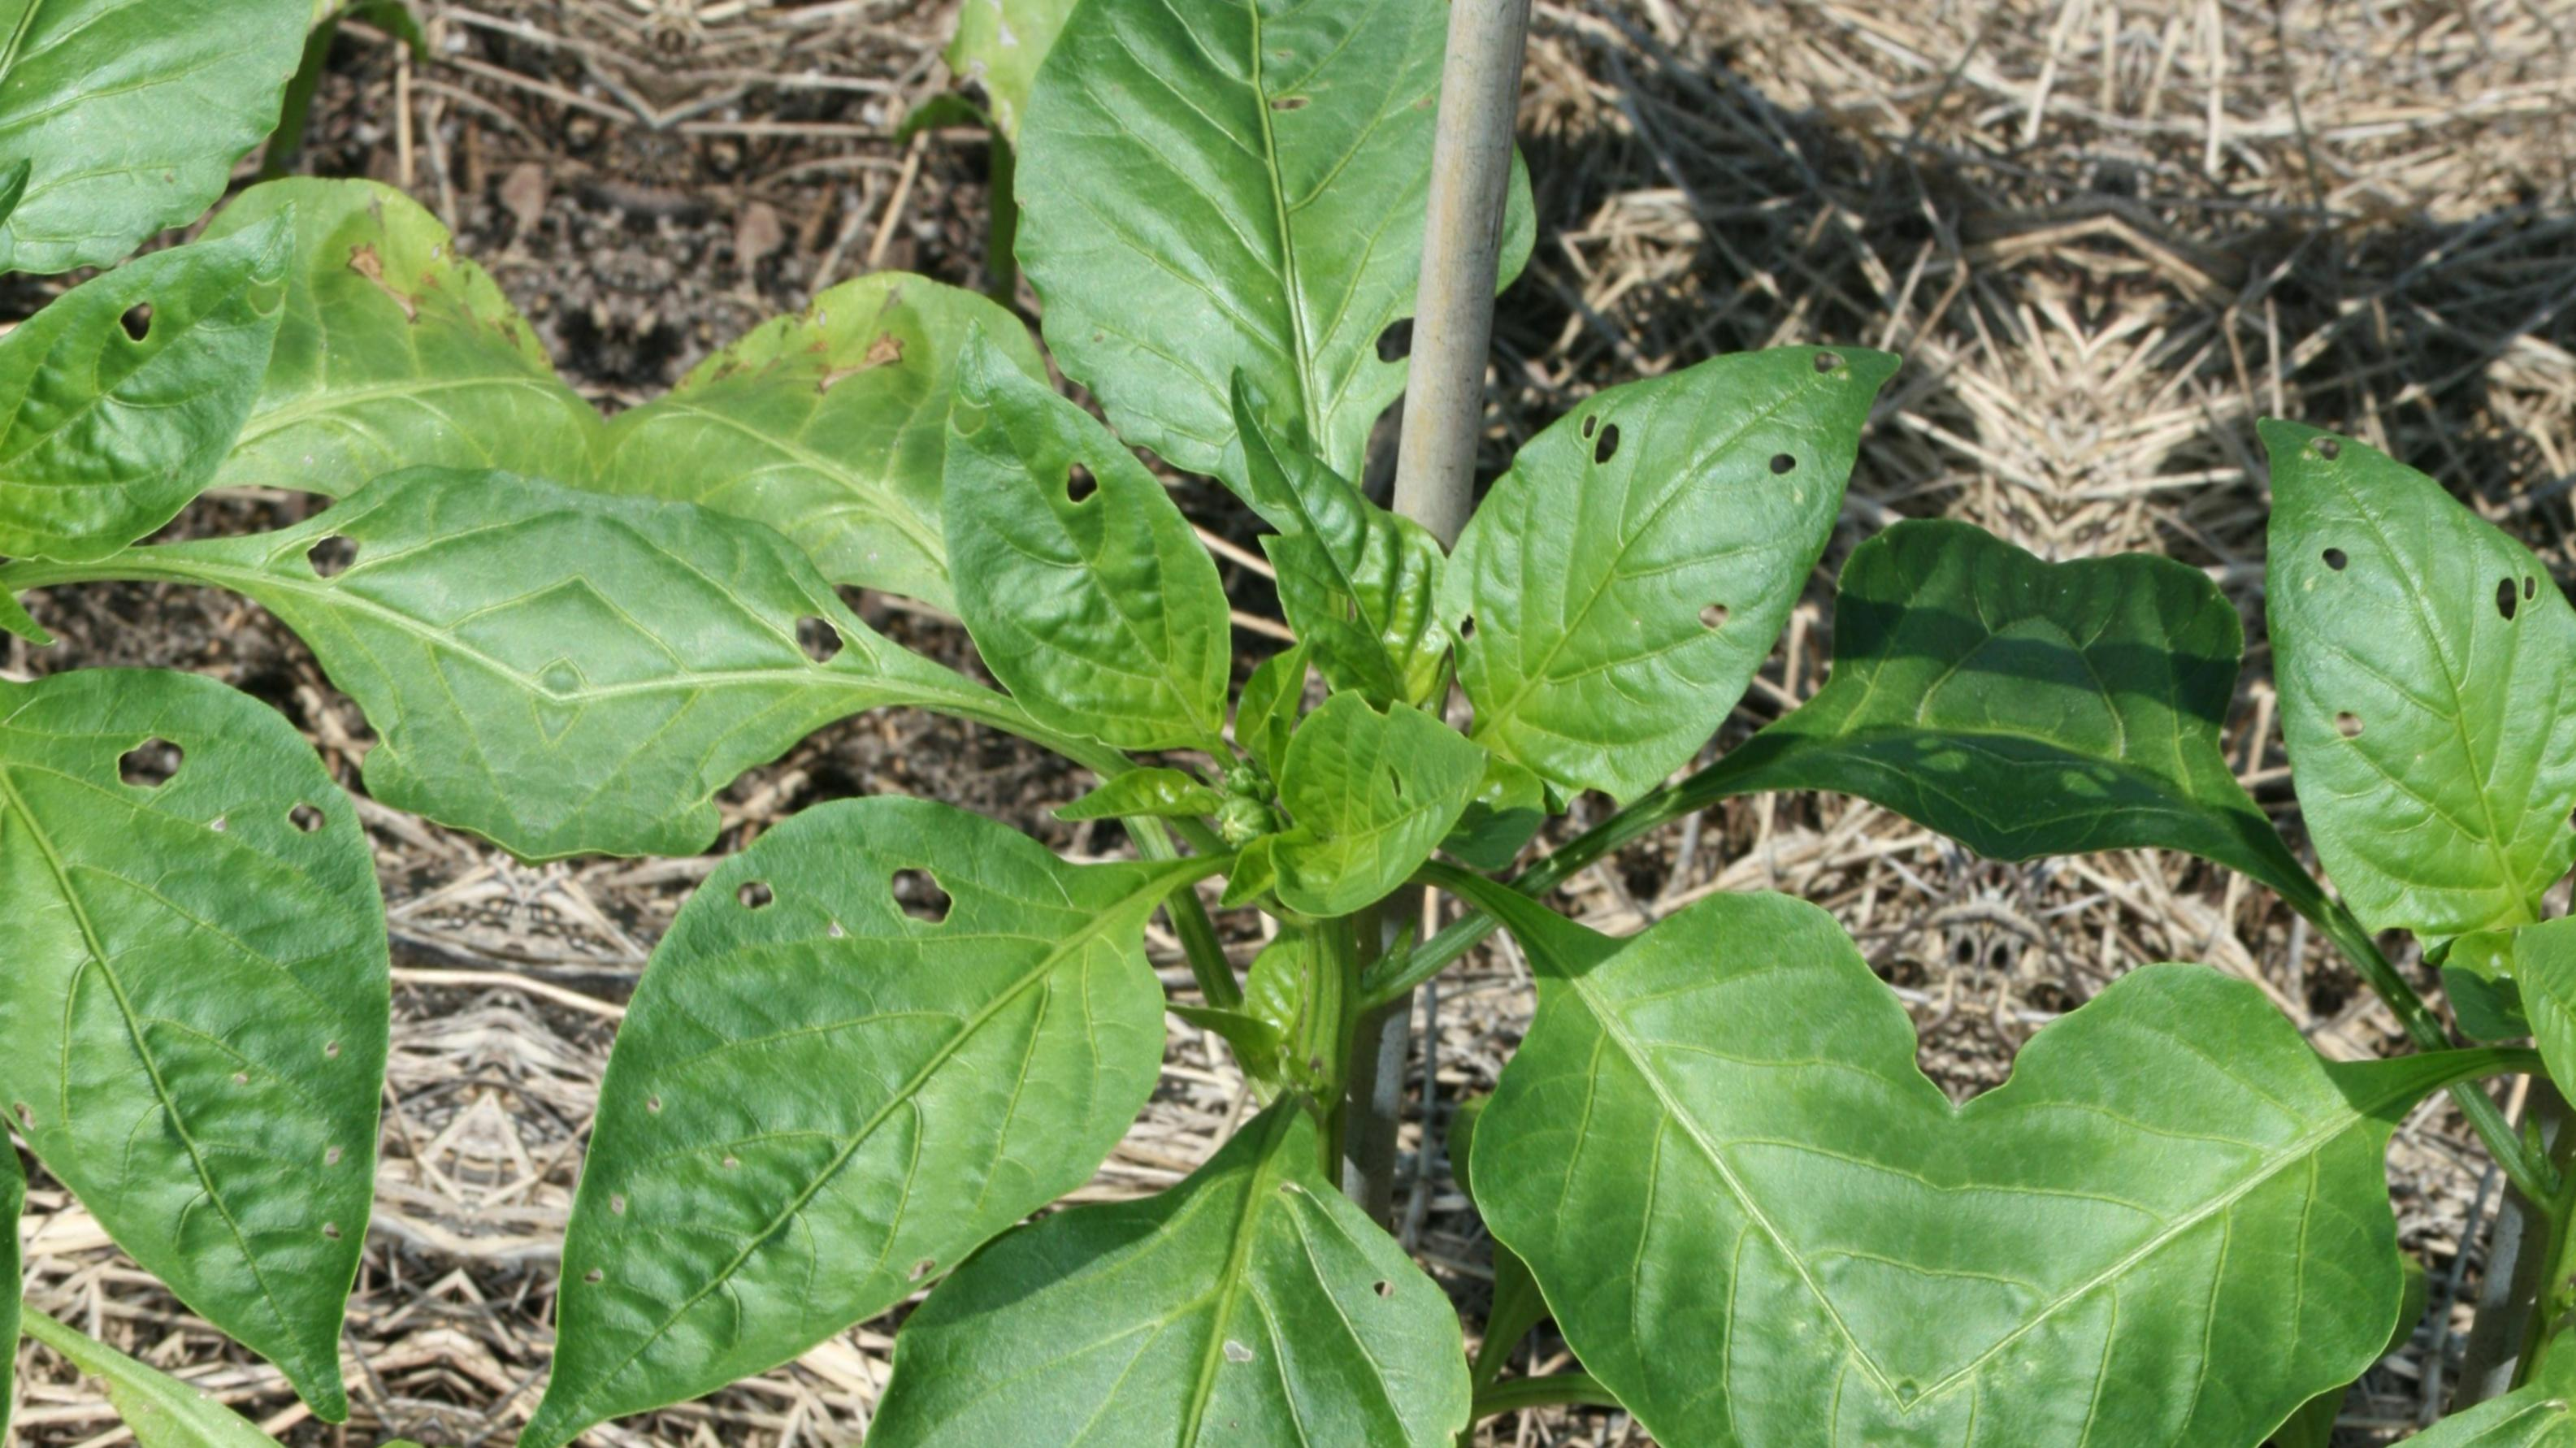Tomato leaf: (426, 708, 1203, 1448), (1355, 844, 1987, 1448), (924, 0, 1529, 552), (1428, 212, 1904, 853), (510, 483, 1003, 1053), (786, 1099, 1516, 1448), (357, 1349, 840, 1448)
